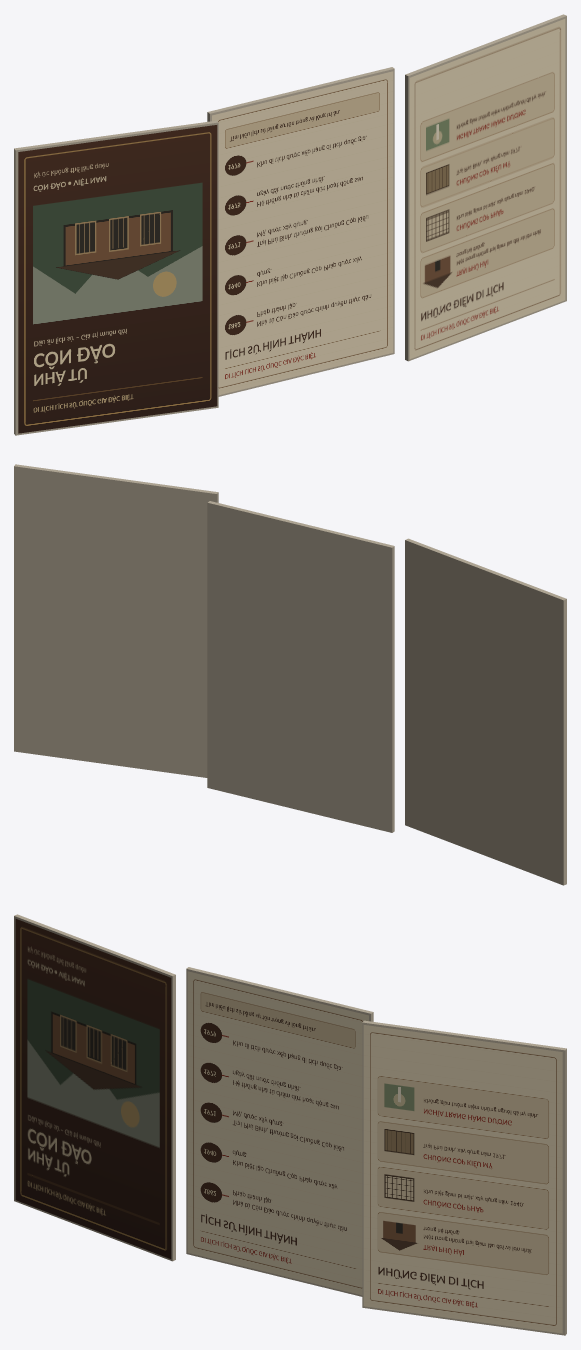
File: brochure-nha-tu-con-dao.glb
3 views of the same model, one above another, from view 1: azimuth 30°, elevation 25°; view 2: azimuth 150°, elevation 25°; view 3: azimuth 330°, elevation 25° (orthographic).
Parts seen in each view (by area): view 1: panel_artwork_1, panel_artwork_2, panel_artwork_3, paper_panel_1, paper_panel_3, paper_panel_2; view 2: paper_panel_3, paper_panel_2, paper_panel_1; view 3: panel_artwork_3, panel_artwork_2, panel_artwork_1, paper_panel_3, paper_panel_1, paper_panel_2.
Part boxes in pixels (x1,y1,x2,y2): panel_artwork_1: (18,125,217,433); panel_artwork_2: (212,71,393,395); panel_artwork_3: (409,19,565,358); paper_panel_1: (14,120,218,435); paper_panel_3: (405,14,566,361); paper_panel_2: (207,67,394,396); paper_panel_3: (14,464,218,777); paper_panel_2: (207,501,394,832); paper_panel_1: (405,538,566,885); panel_artwork_3: (363,1025,562,1333); panel_artwork_2: (187,971,368,1295); panel_artwork_1: (15,919,171,1258); paper_panel_3: (362,1020,566,1335); paper_panel_1: (14,914,175,1261); paper_panel_2: (186,967,373,1296).
Size of the model in its own units: 2.33 by 1.15 by 0.1804.
Materials: 3 (3 with a texture image).
